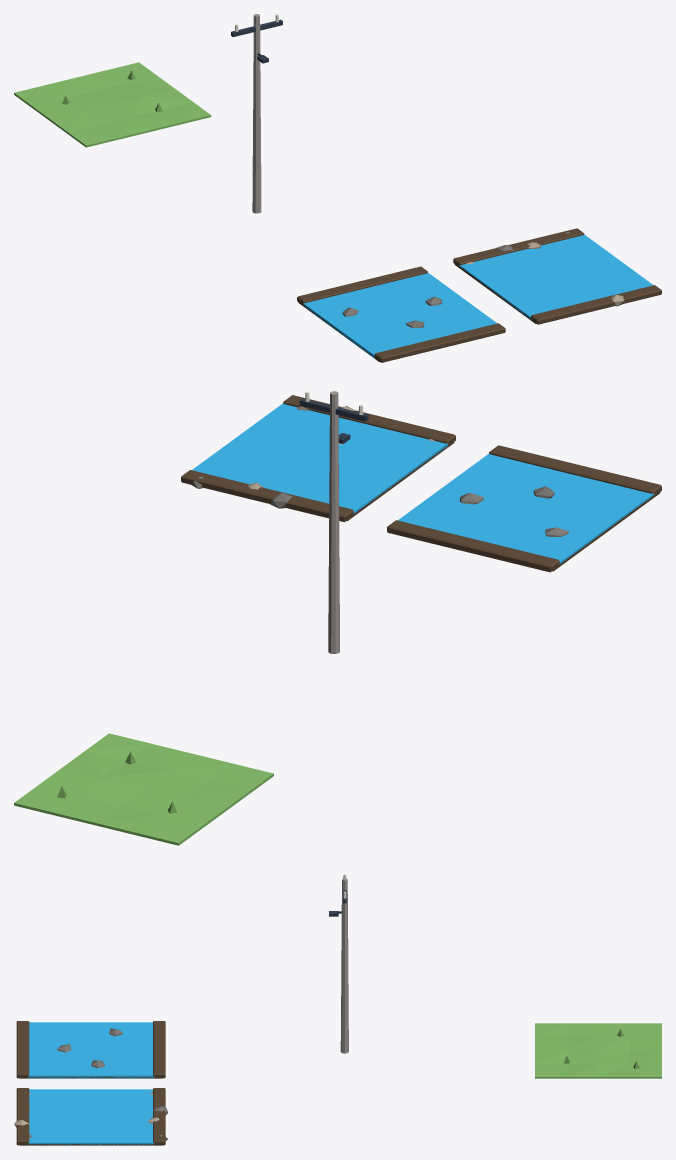
The model's file is kit_sungai_v001.glb.
3 renders of one model, top to bottom at view 1: azimuth 30°, elevation 25°; view 2: azimuth 150°, elevation 25°; view 3: azimuth 270°, elevation 25°, orthographic. The views are drawn at different scales.
Parts seen in each view (by area): view 1: Sungai_Lurus, Sungai_Batu, lantai_sungai, Tiang_Listrik; view 2: Sungai_Batu, Sungai_Lurus, lantai_sungai, Tiang_Listrik; view 3: Sungai_Lurus, Sungai_Batu, lantai_sungai, Tiang_Listrik.
Boxes of the visible parts, x1,y1,x2,y2 form: Sungai_Lurus: [453, 228, 661, 324]; Sungai_Batu: [297, 266, 505, 362]; lantai_sungai: [14, 62, 211, 147]; Tiang_Listrik: [231, 14, 282, 213]; Sungai_Batu: [387, 445, 661, 572]; Sungai_Lurus: [181, 395, 455, 522]; lantai_sungai: [14, 733, 273, 845]; Tiang_Listrik: [299, 391, 368, 653]; Sungai_Lurus: [14, 1088, 167, 1145]; Sungai_Batu: [16, 1021, 165, 1078]; lantai_sungai: [535, 1023, 661, 1078]; Tiang_Listrik: [329, 874, 348, 1053].
Size of the model in its own units: 9 by 6 by 20.43.
